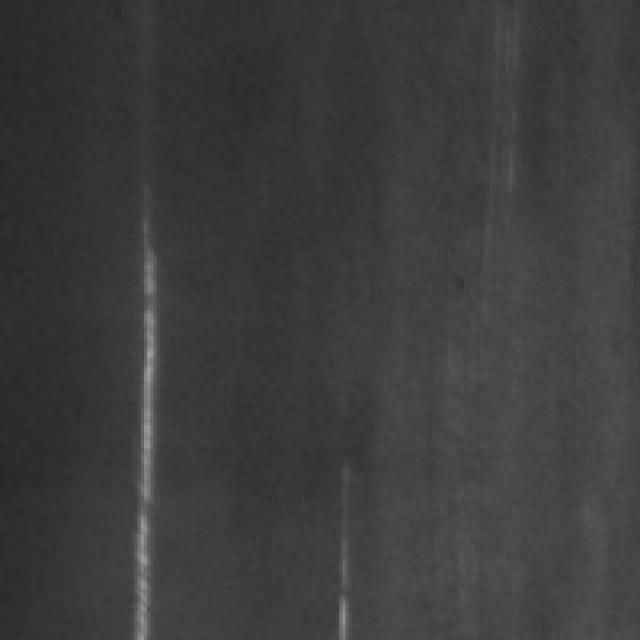scratches: (122, 211, 163, 634)
